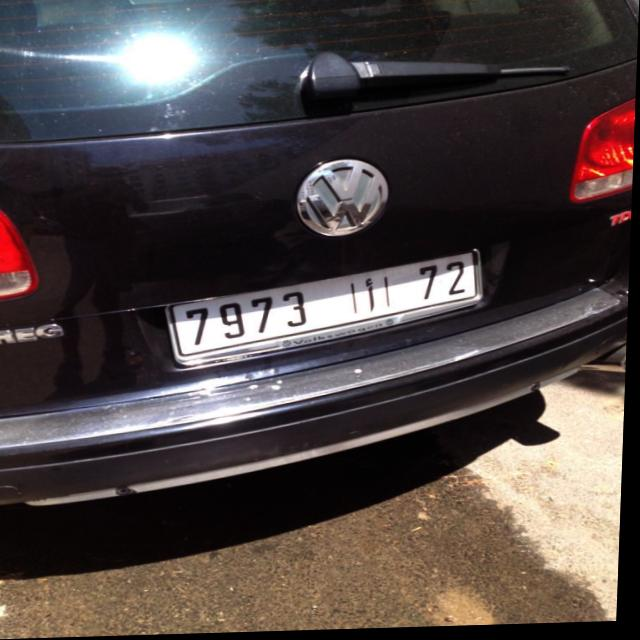License-Plate: (170, 254, 484, 367)
